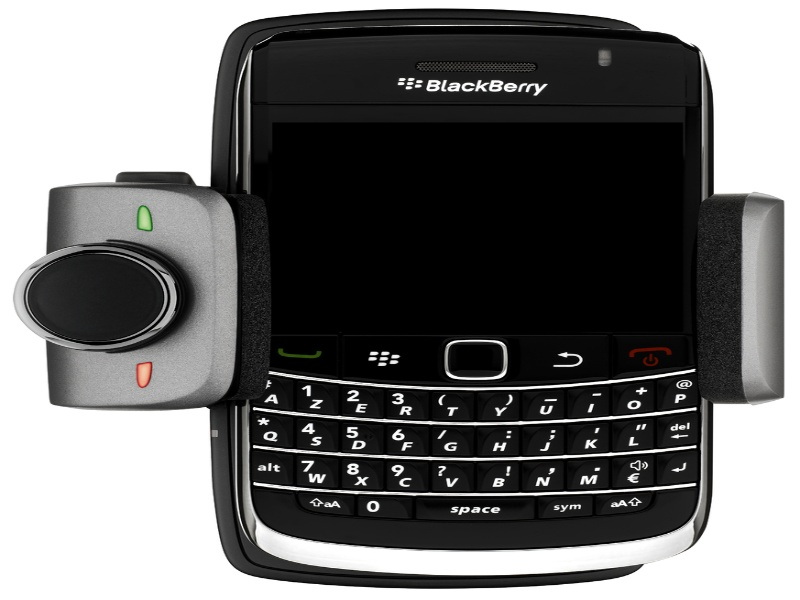cellphone: (213, 7, 723, 600)
